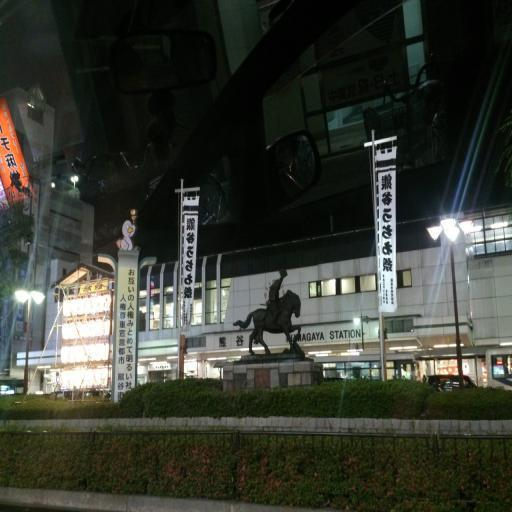horse: (234, 290, 300, 356)
